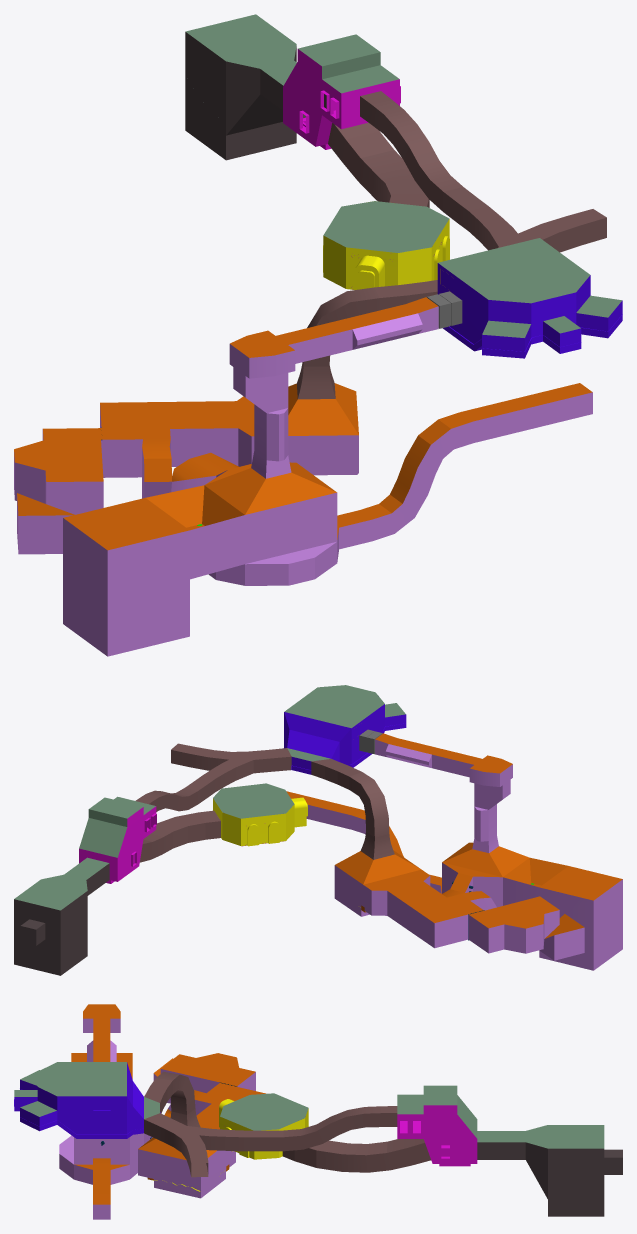
The model's file is DescentMapUnity2.fbx.
3 renders of one model, top to bottom at view 1: azimuth 30°, elevation 25°; view 2: azimuth 150°, elevation 25°; view 3: azimuth 270°, elevation 25°, orthographic. The views are drawn at different scales.
Visible parts, largest first — view 1: polySurface68, soffitto, Mappona, Mappona_Stanza_4, Mappona_polySurface39, polySurface69, Mappona_polySurface85, Mappona_pareti, Mappona_polySurface71, Mappona_polySurface72, Mappona_pCube18, Mappona_polySurface79 (+2 smaller); view 2: polySurface68, soffitto, Mappona_Stanza_4, Mappona, Mappona_polySurface39, Mappona_pareti, polySurface69, Mappona_polySurface85, Mappona_pCube18, Mappona_polySurface77, Mappona_polySurface72, Mappona_polySurface71 (+1 smaller); view 3: polySurface68, soffitto, Mappona_polySurface39, Mappona_Stanza_4, Mappona_pareti, Mappona, Mappona_polySurface85, Mappona_polySurface72, Mappona_polySurface71, Mappona_polySurface79, Mappona_pCube18, Mappona_polySurface77 (+1 smaller).
Part boxes in pixels (bbox=[...]): polySurface68: bbox=[14, 392, 592, 656]; soffitto: bbox=[14, 297, 592, 550]; Mappona: bbox=[283, 49, 449, 289]; Mappona_Stanza_4: bbox=[185, 32, 326, 160]; Mappona_polySurface39: bbox=[360, 91, 606, 252]; polySurface69: bbox=[229, 306, 438, 478]; Mappona_polySurface85: bbox=[438, 238, 621, 337]; Mappona_pareti: bbox=[437, 263, 622, 358]; Mappona_polySurface71: bbox=[323, 201, 449, 252]; Mappona_polySurface72: bbox=[328, 122, 429, 207]; Mappona_pCube18: bbox=[296, 280, 437, 399]; Mappona_polySurface79: bbox=[185, 14, 296, 85]; polySurface68: bbox=[306, 805, 622, 970]; soffitto: bbox=[286, 733, 622, 938]; Mappona_Stanza_4: bbox=[14, 863, 109, 975]; Mappona: bbox=[79, 797, 307, 883]; Mappona_polySurface39: bbox=[135, 743, 291, 811]; Mappona_pareti: bbox=[284, 704, 406, 774]; polySurface69: bbox=[375, 739, 512, 852]; Mappona_polySurface85: bbox=[284, 685, 405, 761]; Mappona_pCube18: bbox=[311, 759, 394, 859]; Mappona_polySurface77: bbox=[79, 796, 155, 857]; Mappona_polySurface72: bbox=[140, 810, 220, 862]; Mappona_polySurface71: bbox=[213, 783, 294, 818]; polySurface68: bbox=[59, 1069, 255, 1219]; soffitto: bbox=[71, 1004, 265, 1204]; Mappona_polySurface39: bbox=[144, 1106, 397, 1177]; Mappona_Stanza_4: bbox=[477, 1142, 622, 1216]; Mappona_pareti: bbox=[14, 1062, 143, 1138]; Mappona: bbox=[219, 1099, 477, 1166]; Mappona_polySurface85: bbox=[14, 1062, 159, 1119]; Mappona_polySurface72: bbox=[282, 1139, 430, 1172]; Mappona_polySurface71: bbox=[220, 1093, 308, 1130]; Mappona_polySurface79: bbox=[477, 1125, 604, 1148]; Mappona_pCube18: bbox=[144, 1071, 200, 1127]; Mappona_polySurface77: bbox=[397, 1085, 477, 1138].
Size of the model in its own units: 20.5 by 9.48 by 26.07.
